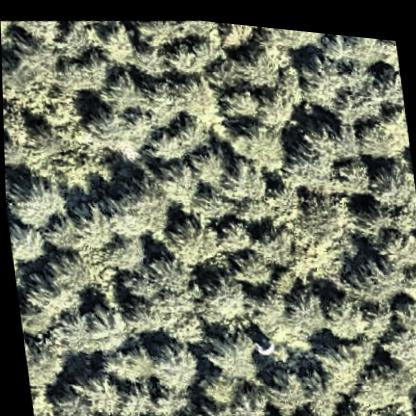tree-top: (273, 103, 343, 190), (87, 99, 174, 167), (189, 217, 269, 286), (74, 94, 146, 164), (97, 175, 168, 244), (182, 261, 250, 332), (140, 123, 207, 193), (142, 278, 205, 350), (286, 41, 348, 113), (286, 182, 352, 249), (42, 298, 109, 362), (157, 206, 221, 272), (71, 293, 132, 361), (225, 111, 287, 174), (1, 40, 59, 107), (308, 329, 366, 395), (162, 66, 222, 129), (357, 146, 416, 210), (142, 334, 201, 396), (198, 322, 257, 384), (341, 187, 401, 246), (348, 103, 410, 160), (253, 354, 310, 415), (326, 62, 383, 123), (312, 280, 368, 342), (346, 352, 403, 412), (40, 241, 98, 299), (155, 28, 212, 87), (4, 173, 59, 234), (146, 152, 201, 213), (53, 45, 110, 103), (337, 235, 396, 291), (237, 275, 291, 333), (95, 334, 151, 389), (243, 212, 298, 267), (88, 15, 140, 73), (226, 36, 278, 94), (96, 223, 149, 278), (60, 41, 113, 96), (275, 279, 324, 337), (70, 364, 124, 416), (137, 116, 190, 168), (20, 333, 63, 397), (181, 137, 231, 191), (95, 63, 145, 117), (16, 116, 66, 168), (187, 359, 237, 409), (293, 365, 342, 416), (214, 75, 263, 125), (123, 32, 172, 82), (139, 247, 189, 295), (208, 206, 253, 259), (37, 209, 84, 258), (247, 78, 292, 129), (327, 27, 386, 65), (226, 240, 271, 288), (329, 145, 372, 195), (6, 217, 48, 268), (382, 281, 416, 339), (2, 100, 30, 167), (13, 16, 61, 51), (217, 382, 266, 416), (265, 22, 322, 48), (164, 391, 221, 416), (26, 386, 59, 416), (402, 338, 416, 394), (255, 407, 303, 416), (409, 391, 416, 416)
